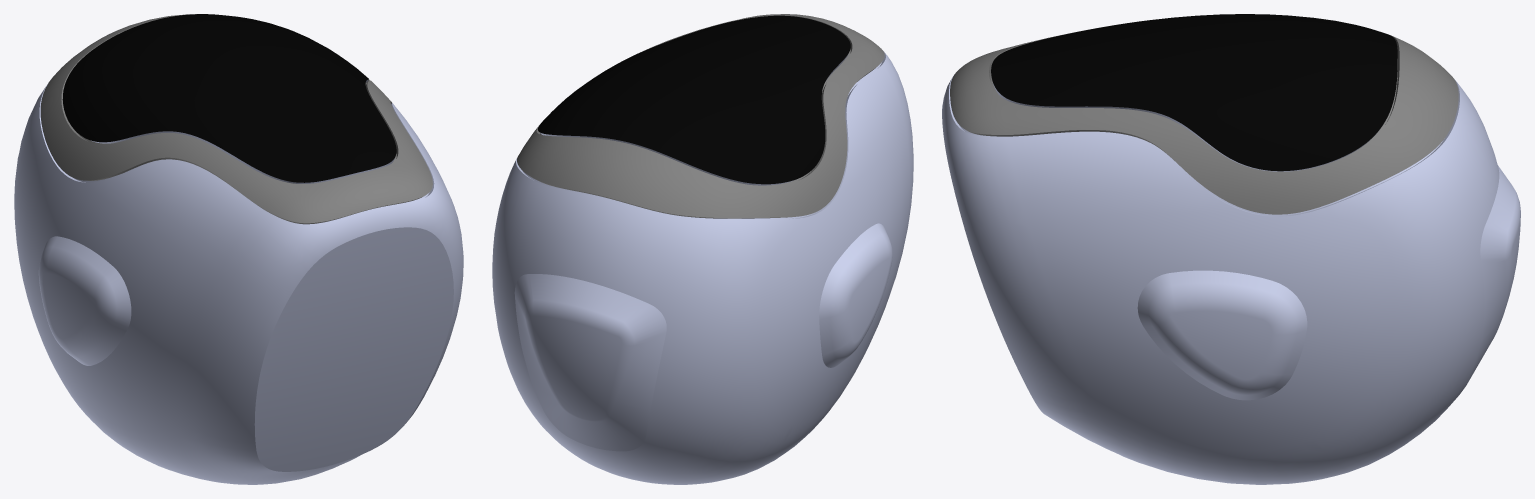
File: head.dae
3 renders of one model, left to right at view 1: azimuth 30°, elevation 25°; view 2: azimuth 150°, elevation 25°; view 3: azimuth 270°, elevation 25°, orthographic. The views are drawn at different scales.
Visible parts, largest first — view 1: Body_3, _3DGeom_157, Body_1, _3DGeom_156; view 2: Body_3, _3DGeom_157, Body_1, _3DGeom_156; view 3: Body_3, _3DGeom_157, Body_1, _3DGeom_156.
Boxes of the visible parts, x1=… form: Body_3: x1=14, y1=84, x2=463, y2=484; _3DGeom_157: x1=62, y1=14, x2=396, y2=182; Body_1: x1=40, y1=14, x2=432, y2=224; _3DGeom_156: x1=91, y1=79, x2=394, y2=183; Body_3: x1=492, y1=51, x2=913, y2=484; _3DGeom_157: x1=537, y1=15, x2=850, y2=184; Body_1: x1=517, y1=14, x2=884, y2=218; _3DGeom_156: x1=540, y1=54, x2=848, y2=185; Body_3: x1=942, y1=75, x2=1520, y2=484; _3DGeom_157: x1=991, y1=14, x2=1397, y2=171; Body_1: x1=950, y1=25, x2=1458, y2=214; _3DGeom_156: x1=993, y1=83, x2=1379, y2=171.
Bounding box in the file's own units: 0.2089 × 0.2847 × 0.2296.
